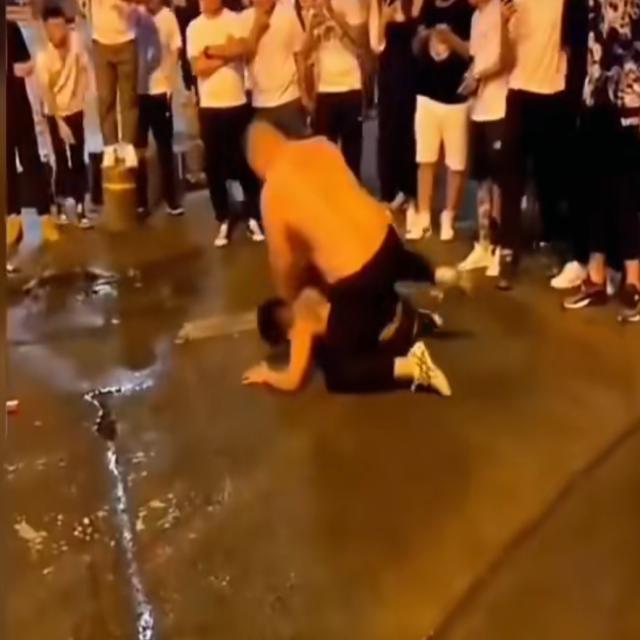fight: (237, 119, 436, 392)
nofight: (181, 0, 255, 240), (25, 7, 86, 205)
